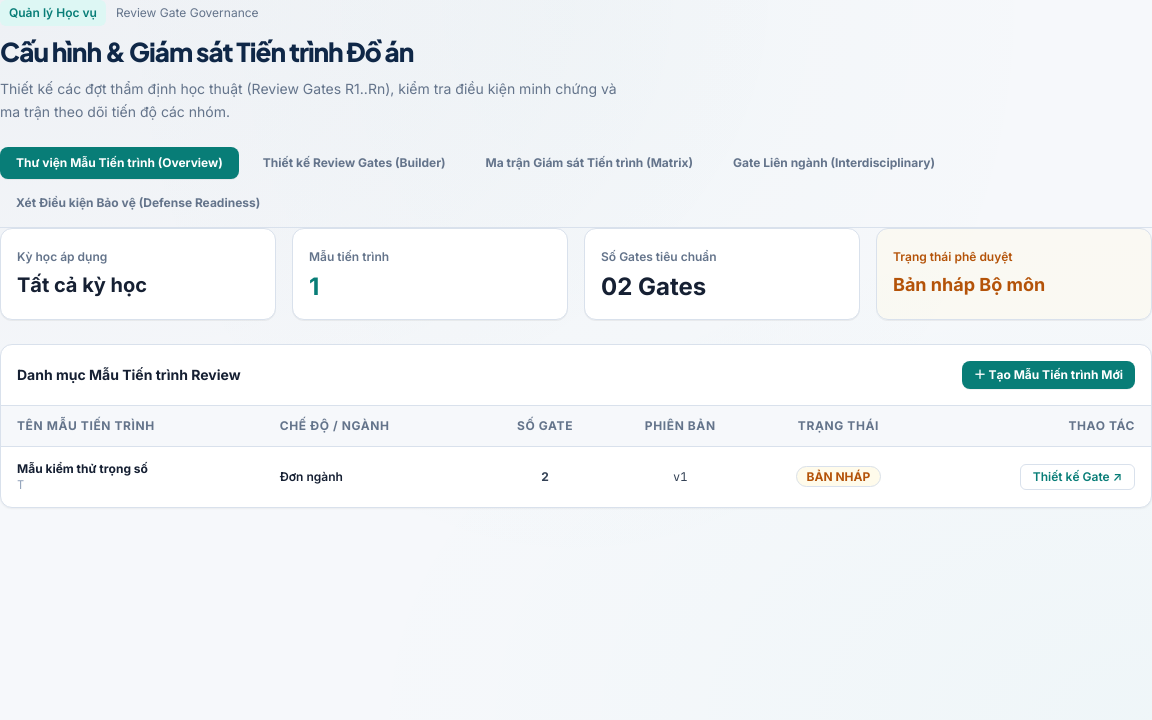
Test: batch 1 template form › edits weight and blocks a partial total without losing other input
The width and height of the screenshot is (1152, 720).
Expected: the text "Mẫu kiểm thử trọng số" is shown, [17,461,148,476]
Click the button "Thiết kế Review Gates (Builder)".
click(354, 163)  # box [247,147,462,179]
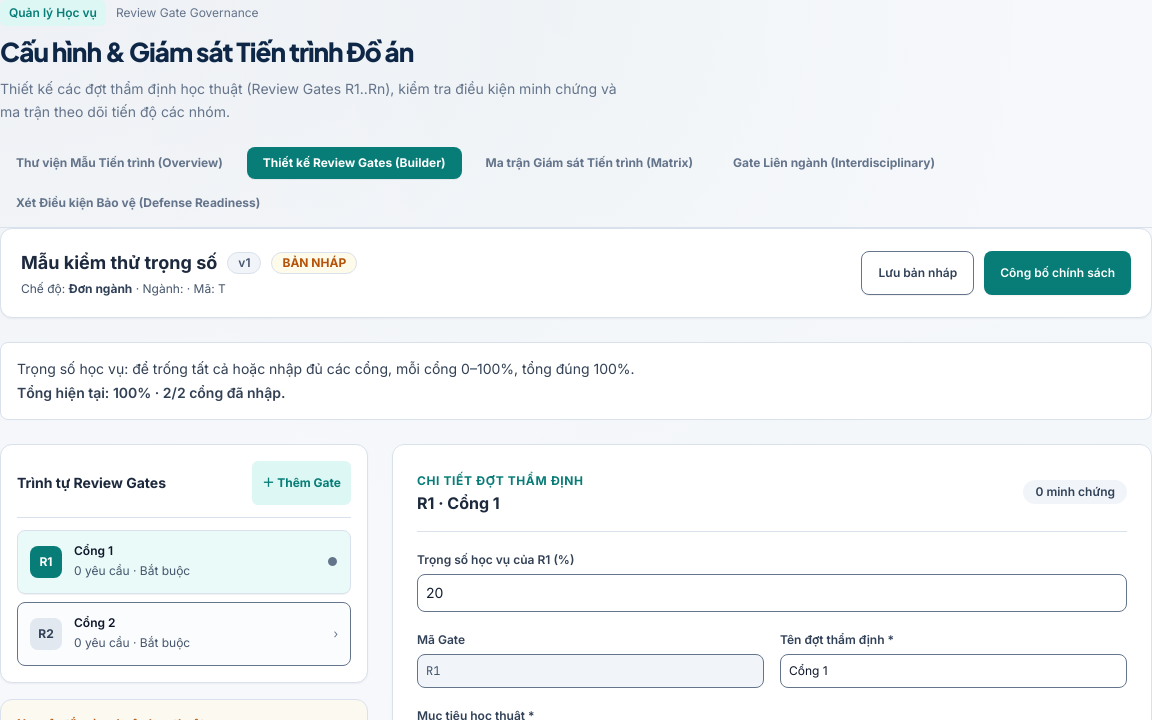
Replace the text in the field labelled "Tên đợt thẩm định *" with "Tên dài đang nhập" at x=954, y=671, box [780,654,1127,688]
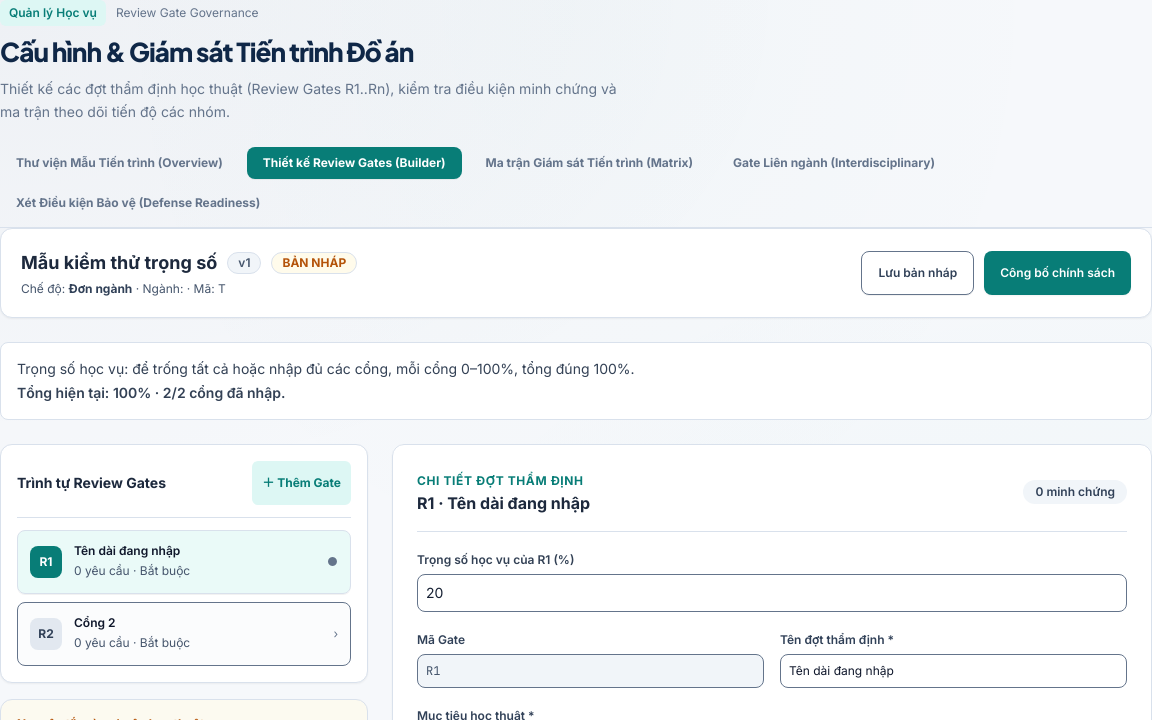
Replace the text in the number field labelled "Trọng số học vụ của R1 (%)" with "35" at x=772, y=593, box [417,574,1127,612]
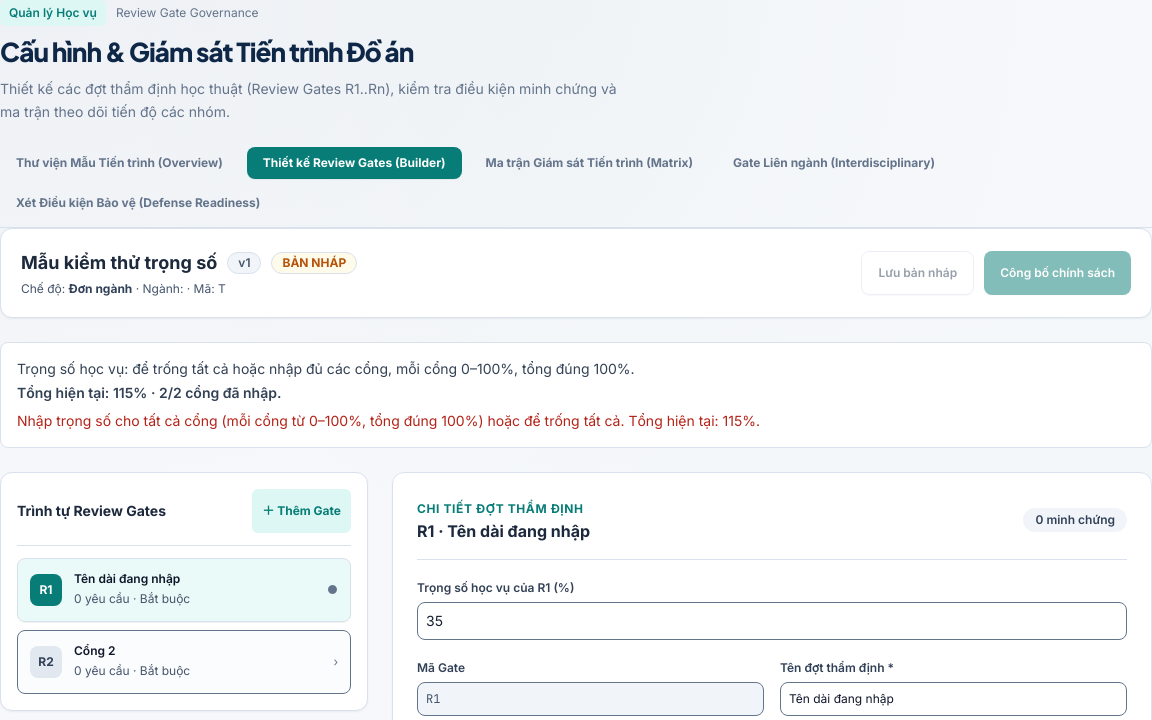
Now the message shows "115%", box [17,412,760,429]
Now the button "Lưu bản nháp" is disabled, box [861,251,974,295]
